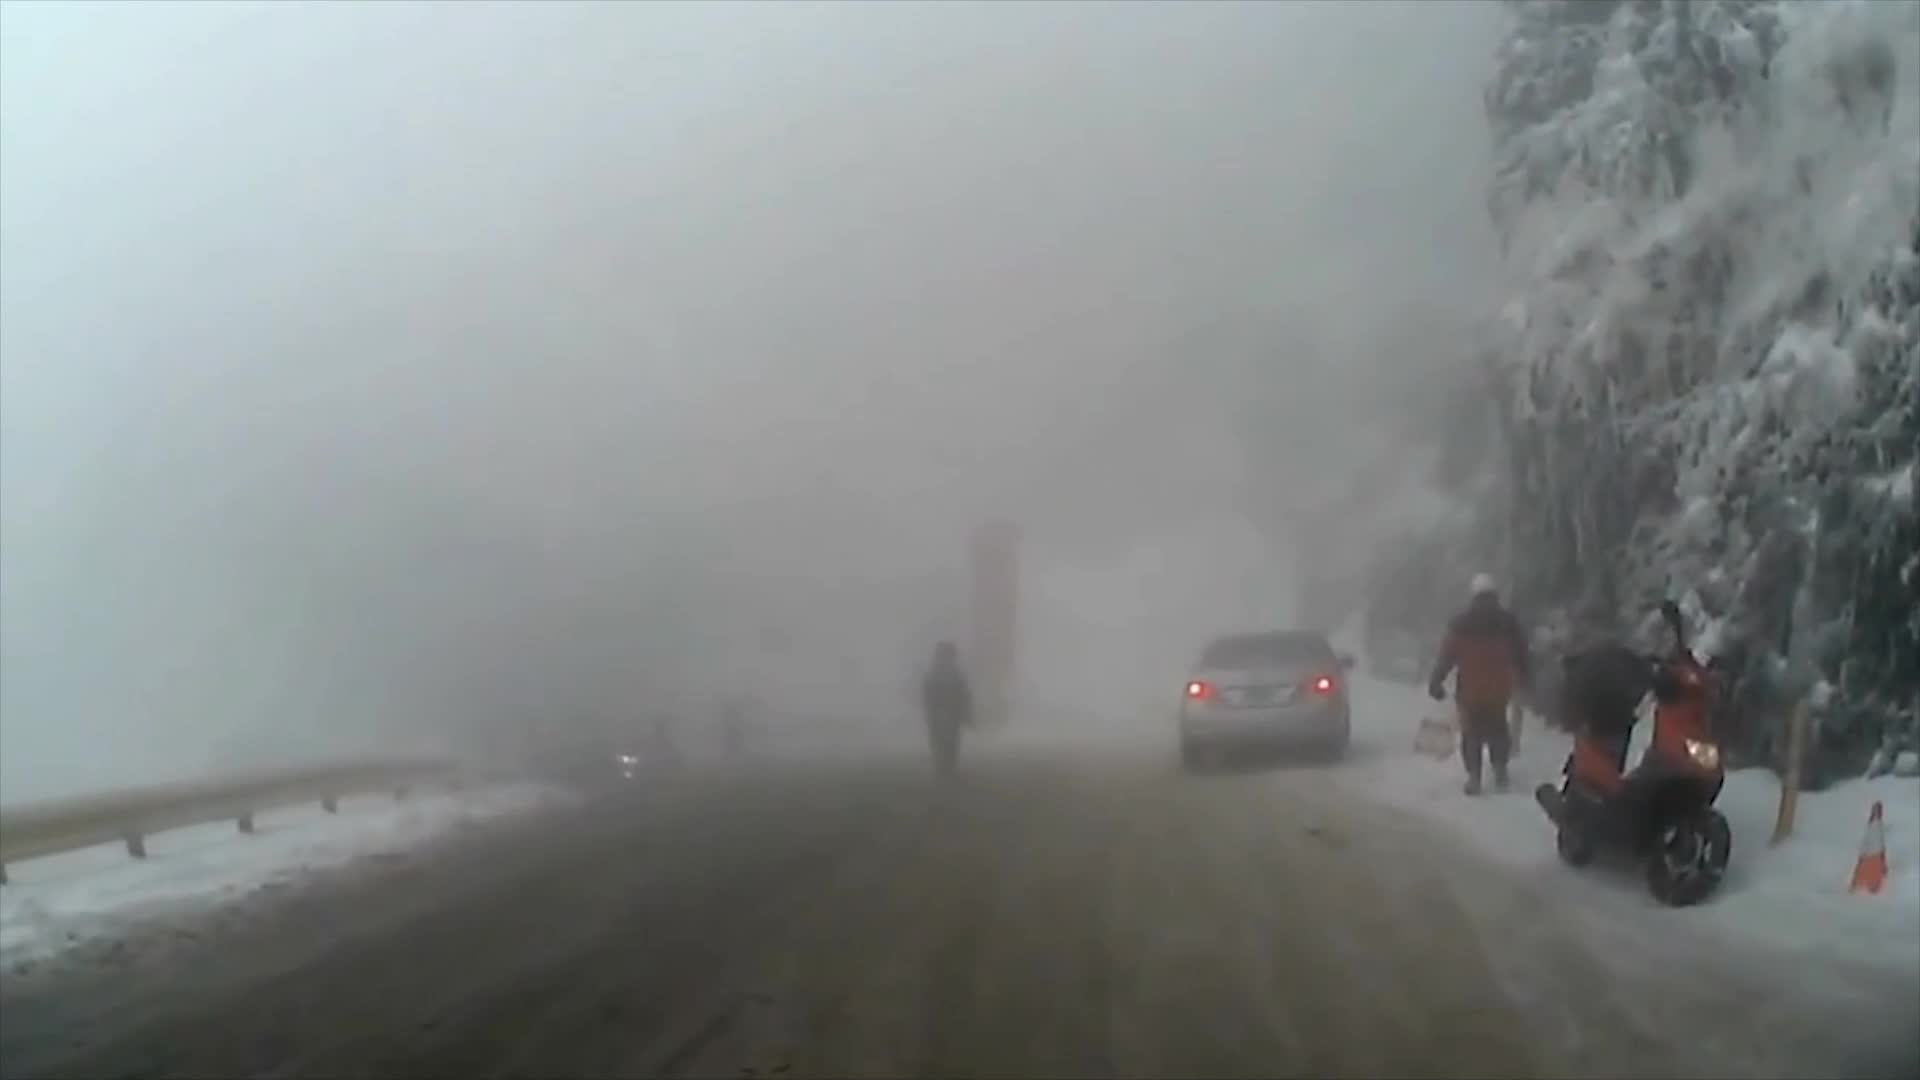pedestrian: (1429, 576, 1538, 805), (922, 641, 972, 792)
vehicle: (1181, 630, 1361, 776)
